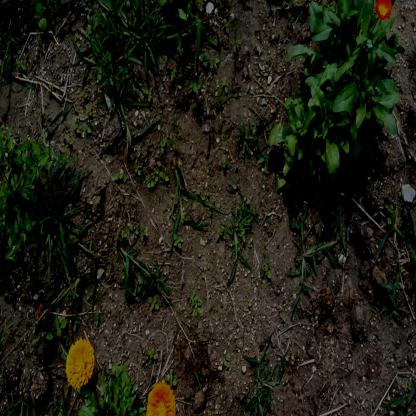marigold: (65, 340, 92, 386), (146, 382, 178, 416)
